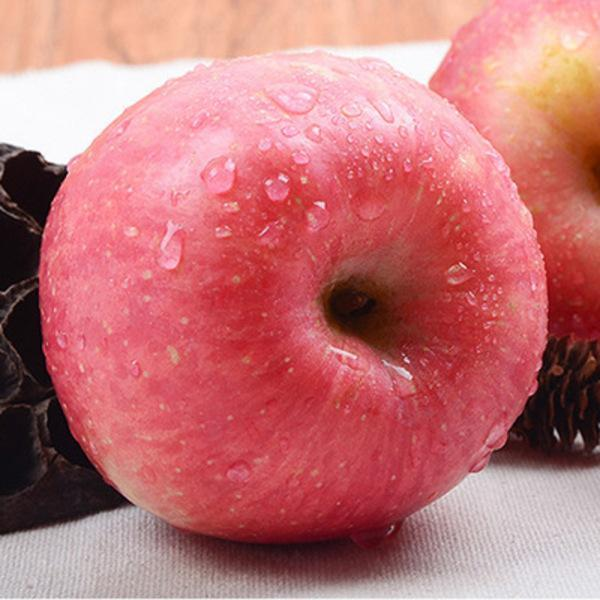apple: (42, 36, 550, 548)
